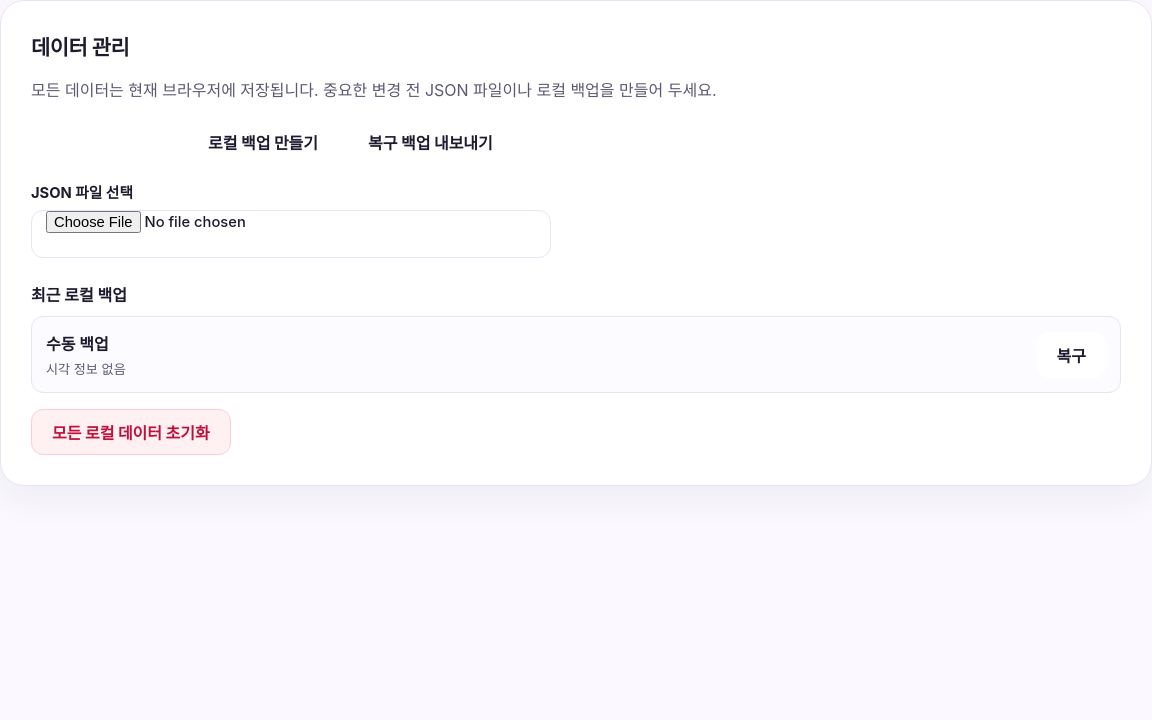
Scenario: 데이터 관리 실패 안내 › 백업 데이터 검증 실패를 백업 실패와 구분해 알린다
The image size is (1152, 720).
Click the button "복구" at (1071, 355), box [1036,332,1106,378]
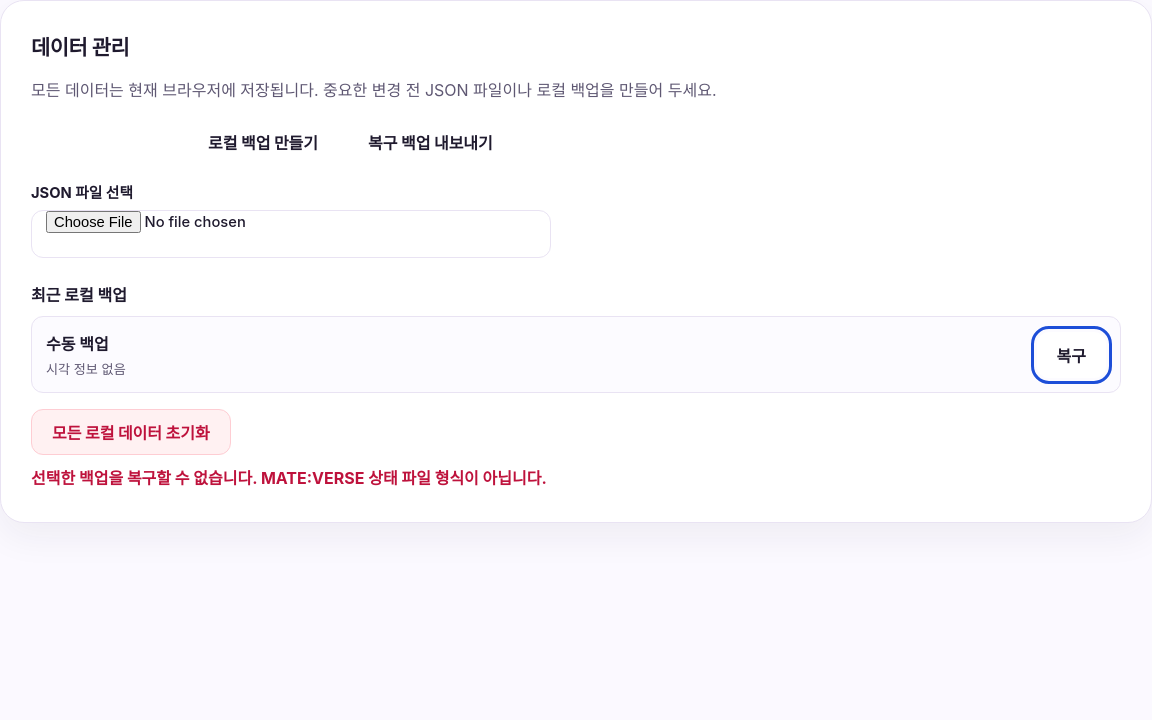
Now the message reads "선택한 백업을 복구할 수 없습니다. MATE:VERSE 상태 파일 형식이 아닙니다.", box [31,468,547,488]
